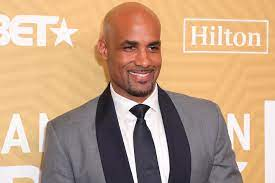person: (95, 1, 163, 96)
